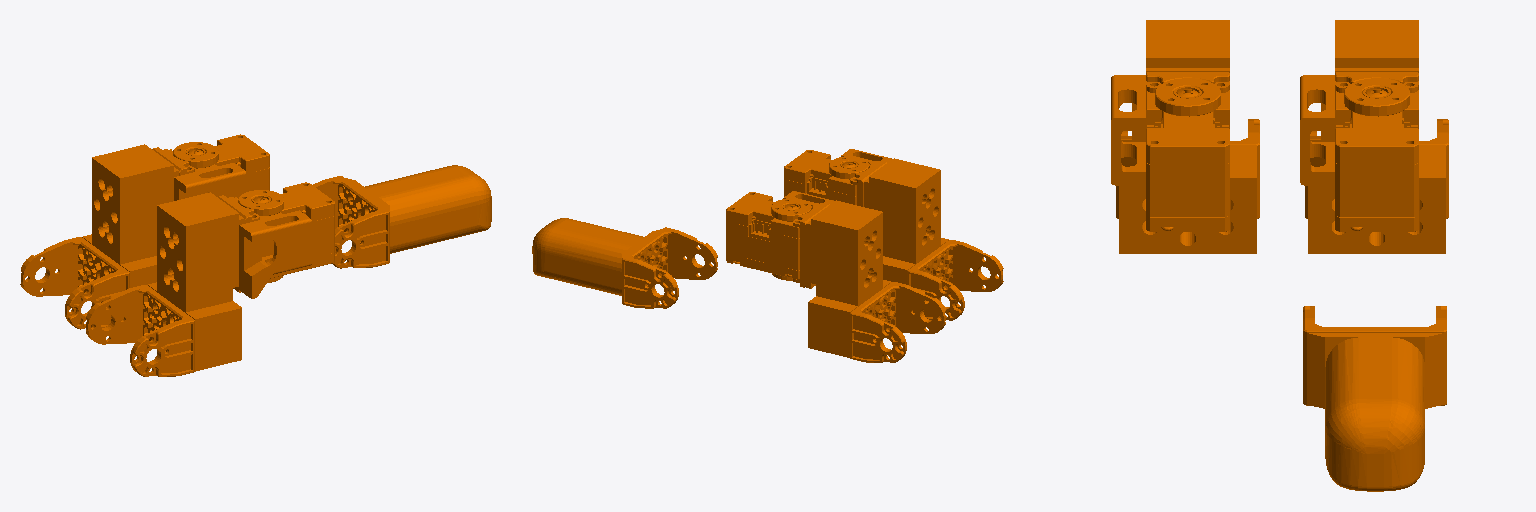
robot.urdf — onshape:
<robot name="onshape">
  <link name="palm_lower">
    <inertial>
      <origin xyz="0.0 0.0 0.0" rpy="0.0 -0.0 0.0"/>
      <mass value="0.237"/>
      <inertia ixx="0.000354094" ixy="-1.193e-06" ixz="-2.445e-06" iyy="0.000260915" iyz="-2.905e-06" izz="0.000529257"/>
    </inertial>
    <visual>
      <geometry>
        <mesh filename="../assets/leap/leap_hand/palm_lower.stl"/>
      </geometry>
      <origin xyz="-0.020095249652862544 0.025757756134899473 -0.034722403578460216" rpy="0.0 -0.0 0.0"/>
      <material name="palm_lower_material">
        <color rgba="0.6039215686274509 0.14901960784313725 0.14901960784313725 1.0"/>
      </material>
    </visual>
    <collision>
      <geometry>
        <mesh filename="../assets/leap/leap_hand/palm_lower.stl"/>
      </geometry>
      <origin xyz="-0.020095249652862544 0.025757756134899473 -0.034722403578460216" rpy="0.0 -0.0 0.0"/>
    </collision>
  </link>
  <link name="mcp_joint">
    <inertial>
      <origin xyz="0.0 0.0 0.0" rpy="0.0 -0.0 0.0"/>
      <mass value="0.044"/>
      <inertia ixx="1.1499e-05" ixy="3.049e-06" ixz="1.21e-07" iyy="7.796e-06" iyz="1.12e-07" izz="1.4759e-05"/>
    </inertial>
    <visual>
      <geometry>
        <mesh filename="../assets/leap/leap_hand/mcp_joint.stl"/>
      </geometry>
      <origin xyz="0.008406902261174496 0.0077662438597169954 0.014657354985032912" rpy="1.6375789613221e-15 -1.021047330249102e-30 1.7177968783327987e-31"/>
      <material name="mcp_joint_material">
        <color rgba="0.8666666666666667 0.8666666666666667 0.050980392156862744 1.0"/>
      </material>
    </visual>
    <collision>
      <geometry>
        <mesh filename="../assets/leap/leap_hand/mcp_joint.stl"/>
      </geometry>
      <origin xyz="0.008406902261174496 0.0077662438597169954 0.014657354985032912" rpy="1.6375789613221e-15 -1.021047330249102e-30 1.7177968783327987e-31"/>
    </collision>
  </link>
  <link name="pip">
    <inertial>
      <origin xyz="0.0 0.0 0.0" rpy="0.0 -0.0 0.0"/>
      <mass value="0.032"/>
      <inertia ixx="4.798e-06" ixy="1.2e-08" ixz="4e-09" iyy="2.862e-06" iyz="1.1e-08" izz="4.234e-06"/>
    </inertial>
    <visual>
      <geometry>
        <mesh filename="../assets/leap/leap_hand/pip.stl"/>
      </geometry>
      <origin xyz="0.009643363092271328 0.0002999999999999895 0.0007840340104173765" rpy="-1.5707963267948966 -1.5707963267948963 0.0"/>
      <material name="pip_material">
        <color rgba="0.7490196078431373 0.7490196078431373 0.7490196078431373 1.0"/>
      </material>
    </visual>
    <collision>
      <geometry>
        <mesh filename="../assets/leap/leap_hand/pip.stl"/>
      </geometry>
      <origin xyz="0.009643363092271328 0.0002999999999999895 0.0007840340104173765" rpy="-1.5707963267948966 -1.5707963267948963 0.0"/>
    </collision>
  </link>
  <link name="dip">
    <inertial>
      <origin xyz="0.0 0.0 0.0" rpy="0.0 -0.0 0.0"/>
      <mass value="0.037"/>
      <inertia ixx="5.542e-06" ixy="-6.07e-07" ixz="-1.7e-08" iyy="5.727e-06" iyz="-2.3e-08" izz="6.682e-06"/>
    </inertial>
    <visual>
      <geometry>
        <mesh filename="../assets/leap/leap_hand/dip.stl"/>
      </geometry>
      <origin xyz="0.021133352895225003 -0.00843211914670488 0.00978508816209524" rpy="-3.141592653589793 4.507511124216441e-32 4.439548105392361e-32"/>
      <material name="dip_material">
        <color rgba="0.8666666666666667 0.8666666666666667 0.050980392156862744 1.0"/>
      </material>
    </visual>
    <collision>
      <geometry>
        <mesh filename="../assets/leap/leap_hand/dip.stl"/>
      </geometry>
      <origin xyz="0.021133352895225003 -0.00843211914670488 0.00978508816209524" rpy="-3.141592653589793 4.507511124216441e-32 4.439548105392361e-32"/>
    </collision>
  </link>
  <link name="fingertip">
    <inertial>
      <origin xyz="0.0 0.0 0.0" rpy="0.0 -0.0 0.0"/>
      <mass value="0.016"/>
      <inertia ixx="3.368e-06" ixy="1.15e-07" ixz="0.0" iyy="1.556e-06" iyz="0.0" izz="2.863e-06"/>
    </inertial>
    <visual>
      <geometry>
        <mesh filename="../assets/leap/leap_hand/fingertip.stl"/>
      </geometry>
      <origin xyz="0.013286424108533503 -0.006114238386541987 0.014499999999999498" rpy="3.141592653589793 1.1993117970061735e-33 4.439548105392361e-32"/>
      <material name="fingertip_material">
        <color rgba="0.8666666666666667 0.8666666666666667 0.050980392156862744 1.0"/>
      </material>
    </visual>
    <collision>
      <geometry>
        <mesh filename="../assets/leap/leap_hand/fingertip.stl"/>
      </geometry>
      <origin xyz="0.013286424108533503 -0.006114238386541987 0.014499999999999498" rpy="3.141592653589793 1.1993117970061735e-33 4.439548105392361e-32"/>
    </collision>
  </link>
  <link name="pip_4">
    <inertial>
      <origin xyz="0.0 0.0 0.0" rpy="0.0 -0.0 0.0"/>
      <mass value="0.032"/>
      <inertia ixx="4.798e-06" ixy="1.2e-08" ixz="4e-09" iyy="2.862e-06" iyz="1.1e-08" izz="4.234e-06"/>
    </inertial>
    <visual>
      <geometry>
        <mesh filename="../assets/leap/leap_hand/pip.stl"/>
      </geometry>
      <origin xyz="-0.005356636907728671 0.0002999999999999999 0.0007840340104173782" rpy="-1.5707963267948966 -1.5707963267948963 0.0"/>
      <material name="pip_material">
        <color rgba="0.7490196078431373 0.7490196078431373 0.7490196078431373 1.0"/>
      </material>
    </visual>
    <collision>
      <geometry>
        <mesh filename="../assets/leap/leap_hand/pip.stl"/>
      </geometry>
      <origin xyz="-0.005356636907728671 0.0002999999999999999 0.0007840340104173782" rpy="-1.5707963267948966 -1.5707963267948963 0.0"/>
    </collision>
  </link>
  <link name="thumb_pip">
    <inertial>
      <origin xyz="0.0 0.0 0.0" rpy="0.0 -0.0 0.0"/>
      <mass value="0.003"/>
      <inertia ixx="5.93e-07" ixy="0.0" ixz="0.0" iyy="5.49e-07" iyz="0.0" izz="2.24e-07"/>
    </inertial>
    <visual>
      <geometry>
        <mesh filename="../assets/leap/leap_hand/thumb_pip.stl"/>
      </geometry>
      <origin xyz="0.011961920770611187 -5.30825383648903e-16 -0.0158526489566642" rpy="1.5707963267948966 1.6050198443300153e-46 -3.9204996250525193e-59"/>
      <material name="thumb_pip_material">
        <color rgba="0.8666666666666667 0.8666666666666667 0.050980392156862744 1.0"/>
      </material>
    </visual>
    <collision>
      <geometry>
        <mesh filename="../assets/leap/leap_hand/thumb_pip.stl"/>
      </geometry>
      <origin xyz="0.011961920770611187 -5.30825383648903e-16 -0.0158526489566642" rpy="1.5707963267948966 1.6050198443300153e-46 -3.9204996250525193e-59"/>
    </collision>
  </link>
  <link name="thumb_dip">
    <inertial>
      <origin xyz="0.0 0.0 0.0" rpy="0.0 -0.0 0.0"/>
      <mass value="0.038"/>
      <inertia ixx="8.474e-06" ixy="2.41e-07" ixz="2.6e-08" iyy="3.841e-06" iyz="2.5e-08" izz="7.679e-06"/>
    </inertial>
    <visual>
      <geometry>
        <mesh filename="../assets/leap/leap_hand/thumb_dip.stl"/>
      </geometry>
      <origin xyz="0.043968715707239175 0.0579529529737092 -0.008628676449369476" rpy="1.94289029309401e-16 3.27515792264422e-15 1.112375852965736e-46"/>
      <material name="thumb_dip_material">
        <color rgba="0.8666666666666667 0.8666666666666667 0.050980392156862744 1.0"/>
      </material>
    </visual>
    <collision>
      <geometry>
        <mesh filename="../assets/leap/leap_hand/thumb_dip.stl"/>
      </geometry>
      <origin xyz="0.043968715707239175 0.0579529529737092 -0.008628676449369476" rpy="1.94289029309401e-16 3.27515792264422e-15 1.112375852965736e-46"/>
    </collision>
  </link>
  <link name="thumb_fingertip">
    <inertial>
      <origin xyz="0.0 0.0 0.0" rpy="0.0 -0.0 0.0"/>
      <mass value="0.049"/>
      <inertia ixx="2.0372e-05" ixy="-4.89e-07" ixz="-3e-08" iyy="4.336e-06" iyz="-9.7e-08" izz="1.9845e-05"/>
    </inertial>
    <visual>
      <geometry>
        <mesh filename="../assets/leap/leap_hand/thumb_fingertip.stl"/>
      </geometry>
      <origin xyz="0.06255953846266739 0.07845968291139699 0.048992911807332215" rpy="4.379057701015637e-47 -3.33066907387547e-16 1.2042408677791935e-46"/>
      <material name="thumb_fingertip_material">
        <color rgba="0.6039215686274509 0.14901960784313725 0.14901960784313725 1.0"/>
      </material>
    </visual>
    <collision>
      <geometry>
        <mesh filename="../assets/leap/leap_hand/thumb_fingertip.stl"/>
      </geometry>
      <origin xyz="0.06255953846266739 0.07845968291139699 0.048992911807332215" rpy="4.379057701015637e-47 -3.33066907387547e-16 1.2042408677791935e-46"/>
    </collision>
  </link>
  <link name="mcp_joint_2_long">
    <inertial>
      <origin xyz="0.0 0.0 0.0" rpy="0.0 -0.0 0.0"/>
      <mass value="0.044"/>
      <inertia ixx="1.1499e-05" ixy="3.049e-06" ixz="1.21e-07" iyy="7.796e-06" iyz="1.12e-07" izz="1.4759e-05"/>
    </inertial>
    <visual>
      <geometry>
        <mesh filename="custom_models/mcp_joint_long.stl"/>
      </geometry>
      <origin xyz="0.008406902261174496 0.0077662438597169954 0.014657354985032914" rpy="1.6375789613221e-15 -1.0076465469034e-30 2.1209300131419907e-61"/>
      <material name="mcp_joint_material">
        <color rgba="0.878 0.467 0.0 1.0"/>
      </material>
    </visual>
    <collision>
      <geometry>
        <mesh filename="custom_models/mcp_joint_long.stl"/>
      </geometry>
      <origin xyz="0.008406902261174496 0.0077662438597169954 0.014657354985032914" rpy="1.6375789613221e-15 -1.0076465469034e-30 2.1209300131419907e-61"/>
    </collision>
  </link>
  <link name="pip_2">
    <inertial>
      <origin xyz="0.0 0.0 0.0" rpy="0.0 -0.0 0.0"/>
      <mass value="0.032"/>
      <inertia ixx="4.798e-06" ixy="1.2e-08" ixz="4e-09" iyy="2.862e-06" iyz="1.1e-08" izz="4.234e-06"/>
    </inertial>
    <visual>
      <geometry>
        <mesh filename="../assets/leap/leap_hand/pip.stl"/>
      </geometry>
      <origin xyz="0.009643363092271328 0.0002999999999999947 0.0007840340104173765" rpy="-1.5707963267948966 -1.5707963267948963 0.0"/>
      <material name="pip_material">
        <color rgba="0.7490196078431373 0.7490196078431373 0.7490196078431373 1.0"/>
      </material>
    </visual>
    <collision>
      <geometry>
        <mesh filename="../assets/leap/leap_hand/pip.stl"/>
      </geometry>
      <origin xyz="0.009643363092271328 0.0002999999999999947 0.0007840340104173765" rpy="-1.5707963267948966 -1.5707963267948963 0.0"/>
    </collision>
  </link>
  <link name="dip_2">
    <inertial>
      <origin xyz="0.0 0.0 0.0" rpy="0.0 -0.0 0.0"/>
      <mass value="0.037"/>
      <inertia ixx="5.542e-06" ixy="-6.07e-07" ixz="-1.7e-08" iyy="5.727e-06" iyz="-2.3e-08" izz="6.682e-06"/>
    </inertial>
    <visual>
      <geometry>
        <mesh filename="../assets/leap/leap_hand/dip.stl"/>
      </geometry>
      <origin xyz="0.021133352895225003 -0.008432119146704865 0.009785088162095237" rpy="-3.141592653589793 2.1146933785271956e-32 1.4408183216511869e-31"/>
      <material name="dip_material">
        <color rgba="0.8666666666666667 0.8666666666666667 0.050980392156862744 1.0"/>
      </material>
    </visual>
    <collision>
      <geometry>
        <mesh filename="../assets/leap/leap_hand/dip.stl"/>
      </geometry>
      <origin xyz="0.021133352895225003 -0.008432119146704865 0.009785088162095237" rpy="-3.141592653589793 2.1146933785271956e-32 1.4408183216511869e-31"/>
    </collision>
  </link>
  <link name="fingertip_2_long">
    <inertial>
      <origin xyz="0.0 0.0 0.0" rpy="0.0 -0.0 0.0"/>
      <mass value="0.016"/>
      <inertia ixx="3.368e-06" ixy="1.15e-07" ixz="0.0" iyy="1.556e-06" iyz="0.0" izz="2.863e-06"/>
    </inertial>
    <visual>
      <geometry>
        <mesh filename="custom_models/fingertip_long.stl"/>
      </geometry>
      <origin xyz="0.013286424108533496 -0.006114238386542001 0.014499999999999496" rpy="3.141592653589793 -4.317959788283594e-33 1.4408183216511869e-31"/>
      <material name="fingertip_material">
        <color rgba="0.878 0.467 0.0 1.0"/>
      </material>
    </visual>
    <collision>
      <geometry>
        <mesh filename="custom_models/fingertip_long.stl"/>
      </geometry>
      <origin xyz="0.013286424108533496 -0.006114238386542001 0.014499999999999496" rpy="3.141592653589793 -4.317959788283594e-33 1.4408183216511869e-31"/>
    </collision>
  </link>
  <link name="mcp_joint_3_long">
    <inertial>
      <origin xyz="0.0 0.0 0.0" rpy="0.0 -0.0 0.0"/>
      <mass value="0.044"/>
      <inertia ixx="1.1499e-05" ixy="3.049e-06" ixz="1.21e-07" iyy="7.796e-06" iyz="1.12e-07" izz="1.4759e-05"/>
    </inertial>
    <visual>
      <geometry>
        <mesh filename="custom_models/mcp_joint_long.stl"/>
      </geometry>
      <origin xyz="0.0084069022611745 0.007766243859716996 0.014657354985032914" rpy="1.6375789613221e-15 -1.0059504988632627e-30 5.729641584552035e-32"/>
      <material name="mcp_joint_material">
        <color rgba="0.878 0.467 0.0 1.0"/>
      </material>
    </visual>
    <collision>
      <geometry>
        <mesh filename="custom_models/mcp_joint_long.stl"/>
      </geometry>
      <origin xyz="0.0084069022611745 0.007766243859716996 0.014657354985032914" rpy="1.6375789613221e-15 -1.0059504988632627e-30 5.729641584552035e-32"/>
    </collision>
  </link>
  <link name="pip_3">
    <inertial>
      <origin xyz="0.0 0.0 0.0" rpy="0.0 -0.0 0.0"/>
      <mass value="0.032"/>
      <inertia ixx="4.798e-06" ixy="1.2e-08" ixz="4e-09" iyy="2.862e-06" iyz="1.1e-08" izz="4.234e-06"/>
    </inertial>
    <visual>
      <geometry>
        <mesh filename="../assets/leap/leap_hand/pip.stl"/>
      </geometry>
      <origin xyz="0.009643363092271331 0.00029999999999998084 0.0007840340104173765" rpy="-1.5707963267948966 -1.5707963267948963 0.0"/>
      <material name="pip_material">
        <color rgba="0.7490196078431373 0.7490196078431373 0.7490196078431373 1.0"/>
      </material>
    </visual>
    <collision>
      <geometry>
        <mesh filename="../assets/leap/leap_hand/pip.stl"/>
      </geometry>
      <origin xyz="0.009643363092271331 0.00029999999999998084 0.0007840340104173765" rpy="-1.5707963267948966 -1.5707963267948963 0.0"/>
    </collision>
  </link>
  <link name="dip_3">
    <inertial>
      <origin xyz="0.0 0.0 0.0" rpy="0.0 -0.0 0.0"/>
      <mass value="0.037"/>
      <inertia ixx="5.542e-06" ixy="-6.07e-07" ixz="-1.7e-08" iyy="5.727e-06" iyz="-2.3e-08" izz="6.682e-06"/>
    </inertial>
    <visual>
      <geometry>
        <mesh filename="../assets/leap/leap_hand/dip.stl"/>
      </geometry>
      <origin xyz="0.021133352895225006 -0.008432119146704865 0.009785088162095237" rpy="-3.141592653589793 -1.4095651113919093e-33 1.5565411607615035e-32"/>
      <material name="dip_material">
        <color rgba="0.8666666666666667 0.8666666666666667 0.050980392156862744 1.0"/>
      </material>
    </visual>
    <collision>
      <geometry>
        <mesh filename="../assets/leap/leap_hand/dip.stl"/>
      </geometry>
      <origin xyz="0.021133352895225006 -0.008432119146704865 0.009785088162095237" rpy="-3.141592653589793 -1.4095651113919093e-33 1.5565411607615035e-32"/>
    </collision>
  </link>
  <link name="fingertip_3">
    <inertial>
      <origin xyz="0.0 0.0 0.0" rpy="0.0 -0.0 0.0"/>
      <mass value="0.016"/>
      <inertia ixx="3.368e-06" ixy="1.15e-07" ixz="0.0" iyy="1.556e-06" iyz="0.0" izz="2.863e-06"/>
    </inertial>
    <visual>
      <geometry>
        <mesh filename="../assets/leap/leap_hand/fingertip.stl"/>
      </geometry>
      <origin xyz="0.013286424108533501 -0.006114238386541987 0.0144999999999995" rpy="3.141592653589793 8.61707169505754e-33 1.5565411607615035e-32"/>
      <material name="fingertip_material">
        <color rgba="0.8666666666666667 0.8666666666666667 0.050980392156862744 1.0"/>
      </material>
    </visual>
    <collision>
      <geometry>
        <mesh filename="../assets/leap/leap_hand/fingertip.stl"/>
      </geometry>
      <origin xyz="0.013286424108533501 -0.006114238386541987 0.0144999999999995" rpy="3.141592653589793 8.61707169505754e-33 1.5565411607615035e-32"/>
    </collision>
  </link>
  <joint name="1" type="revolute">
    <parent link="palm_lower"/>
    <child link="mcp_joint"/>
    <origin xyz="-0.007095249652862546 0.023057756134899472 -0.01872240357846022" rpy="1.570796326794895 1.5707963267948946 0.0"/>
    <axis xyz="0.0 0.0 -1.0"/>
    <limit effort="0.95" velocity="8.48" lower="-0.314" upper="2.23"/>
  </joint>
  <joint name="0" type="revolute">
    <parent link="mcp_joint"/>
    <child link="pip"/>
    <origin xyz="-0.012200000000000008 0.038099999999999995 0.0145" rpy="-1.5707963267948966 -1.0065212660796337e-15 1.5707963267948943"/>
    <axis xyz="0.0 0.0 -1.0"/>
    <limit effort="0.95" velocity="8.48" lower="-1.047" upper="1.047"/>
  </joint>
  <joint name="2" type="revolute">
    <parent link="pip"/>
    <child link="dip"/>
    <origin xyz="0.014999999999999968 0.014299999999999905 -0.012999999999999824" rpy="1.570796326794896 -1.5707963267948963 0.0"/>
    <axis xyz="0.0 0.0 -1.0"/>
    <limit effort="0.95" velocity="8.48" lower="-0.506" upper="1.885"/>
  </joint>
  <joint name="3" type="revolute">
    <parent link="dip"/>
    <child link="fingertip"/>
    <origin xyz="-4.088058249557269e-09 -0.03610000421036737 0.0002000000000000786" rpy="4.5935029425113685e-17 -2.8730071914463795e-16 4.439548105392361e-32"/>
    <axis xyz="0.0 0.0 -1.0"/>
    <limit effort="0.95" velocity="8.48" lower="-0.366" upper="2.042"/>
  </joint>
  <joint name="12" type="revolute">
    <parent link="palm_lower"/>
    <child link="pip_4"/>
    <origin xyz="-0.06939524965286253 -0.0012422438651005258 -0.021622403578460216" rpy="-8.238176646493942e-17 1.5707963267948957 0.0"/>
    <axis xyz="0.0 0.0 -1.0"/>
    <limit effort="0.95" velocity="8.48" lower="-0.349" upper="2.094"/>
  </joint>
  <joint name="13" type="revolute">
    <parent link="pip_4"/>
    <child link="thumb_pip"/>
    <origin xyz="-2.7755575615628914e-17 0.014300000000000005 -0.013000000000000012" rpy="1.570796326794896 -1.5707963267948963 0.0"/>
    <axis xyz="0.0 0.0 -1.0"/>
    <limit effort="0.95" velocity="8.48" lower="-0.47" upper="2.443"/>
  </joint>
  <joint name="14" type="revolute">
    <parent link="thumb_pip"/>
    <child link="thumb_dip"/>
    <origin xyz="0.0 0.014499999999999966 -0.017000000000000053" rpy="-1.5707963267948966 1.6050198443300131e-46 -1.9721522630516625e-31"/>
    <axis xyz="0.0 0.0 -1.0"/>
    <limit effort="0.95" velocity="8.48" lower="-1.2" upper="1.9"/>
  </joint>
  <joint name="15" type="revolute">
    <parent link="thumb_dip"/>
    <child link="thumb_fingertip"/>
    <origin xyz="-1.249000902703301e-16 0.046599999999999864 0.0001999999999999771" rpy="1.506395849149178e-44 5.423418723393526e-31 3.141592653589793"/>
    <axis xyz="0.0 0.0 -1.0"/>
    <limit effort="0.95" velocity="8.48" lower="-1.34" upper="1.88"/>
  </joint>
  <joint name="5" type="revolute">
    <parent link="palm_lower"/>
    <child link="mcp_joint_2_long"/>
    <origin xyz="-0.007095249652862546 -0.022392243865100525 -0.01872240357846022" rpy="1.570796326794895 1.5707963267948946 0.0"/>
    <axis xyz="0.0 0.0 -1.0"/>
    <limit effort="0.95" velocity="8.48" lower="-0.314" upper="2.23"/>
  </joint>
  <joint name="4" type="revolute">
    <parent link="mcp_joint_2_long"/>
    <child link="pip_2"/>
    <origin xyz="-0.012200000000000007713 0.053099999999999994982 0.014500000000000000736" rpy="-1.5707963267948966 -1.0065212660796337e-15 1.5707963267948943"/>
    <axis xyz="0.0 0.0 -1.0"/>
    <limit effort="0.95" velocity="8.48" lower="-1.047" upper="1.047"/>
  </joint>
  <joint name="6" type="revolute">
    <parent link="pip_2"/>
    <child link="dip_2"/>
    <origin xyz="0.014999999999999968 0.014299999999999905 -0.012999999999999824" rpy="1.570796326794896 -1.5707963267948963 0.0"/>
    <axis xyz="0.0 0.0 -1.0"/>
    <limit effort="0.95" velocity="8.48" lower="-0.506" upper="1.885"/>
  </joint>
  <joint name="7" type="revolute">
    <parent link="dip_2"/>
    <child link="fingertip_2_long"/>
    <origin xyz="-4.088058249557269e-09 -0.03610000421036737 0.0002000000000000786" rpy="4.5935029425113685e-17 -2.8730071914463795e-16 4.439548105392361e-32"/>
    <axis xyz="0.0 0.0 -1.0"/>
    <limit effort="0.95" velocity="8.48" lower="-0.366" upper="2.042"/>
  </joint>
  <joint name="9" type="revolute">
    <parent link="palm_lower"/>
    <child link="mcp_joint_3_long"/>
    <origin xyz="-0.007095249652862546 -0.06784224386510052 -0.01872240357846022" rpy="1.570796326794895 1.5707963267948946 0.0"/>
    <axis xyz="0.0 0.0 -1.0"/>
    <limit effort="0.95" velocity="8.48" lower="-0.314" upper="2.23"/>
  </joint>
  <joint name="8" type="revolute">
    <parent link="mcp_joint_3_long"/>
    <child link="pip_3"/>
    <origin xyz="-0.012200000000000007713 0.053099999999999994982 0.014500000000000000736" rpy="-1.5707963267948966 -1.0065212660796337e-15 1.5707963267948943"/>
    <axis xyz="0.0 0.0 -1.0"/>
    <limit effort="0.95" velocity="8.48" lower="-1.047" upper="1.047"/>
  </joint>
  <joint name="10" type="revolute">
    <parent link="pip_3"/>
    <child link="dip_3"/>
    <origin xyz="0.014999999999999968 0.014299999999999905 -0.012999999999999824" rpy="1.570796326794896 -1.5707963267948963 0.0"/>
    <axis xyz="0.0 0.0 -1.0"/>
    <limit effort="0.95" velocity="8.48" lower="-0.506" upper="1.885"/>
  </joint>
  <joint name="11" type="revolute">
    <parent link="dip_3"/>
    <child link="fingertip_3"/>
    <origin xyz="-4.088058249557269e-09 -0.03610000421036737 0.0002000000000000786" rpy="4.5935029425113685e-17 -2.8730071914463795e-16 4.439548105392361e-32"/>
    <axis xyz="0.0 0.0 -1.0"/>
    <limit effort="0.95" velocity="8.48" lower="-0.366" upper="2.042"/>
  </joint>
</robot>

--- Facts derived from the render (not from the file) ---
3 views of the same robot in one strip: view 1: azimuth 30°, elevation 25°; view 2: azimuth 150°, elevation 25°; view 3: azimuth 270°, elevation 25° (orthographic).
Model onshape with 17 links and 16 joints (16 revolute), rooted at palm_lower, posed every joint at zero.
Visible links, largest first — view 1: mcp_joint_3_long, mcp_joint_2_long, fingertip_2_long; view 2: mcp_joint_2_long, mcp_joint_3_long, fingertip_2_long; view 3: mcp_joint_2_long, mcp_joint_3_long, fingertip_2_long.
Link boxes in pixels (left/top/right/bottom): mcp_joint_3_long: left=86, top=182, right=334, bottom=376; mcp_joint_2_long: left=20, top=134, right=269, bottom=329; fingertip_2_long: left=313, top=165, right=491, bottom=268; mcp_joint_2_long: left=726, top=191, right=945, bottom=362; mcp_joint_3_long: left=784, top=149, right=1003, bottom=320; fingertip_2_long: left=532, top=218, right=717, bottom=308; mcp_joint_2_long: left=1300, top=20, right=1448, bottom=253; mcp_joint_3_long: left=1111, top=20, right=1259, bottom=253; fingertip_2_long: left=1303, top=306, right=1446, bottom=491.
Bounding box of the posed robot: 0.1766 × 0.0812 × 0.0549 m (x, y, z).
3 mesh visuals loaded from 10 distinct referenced files (2 binary STL); not drawn: 14 (reference not matched to a file when rendering).